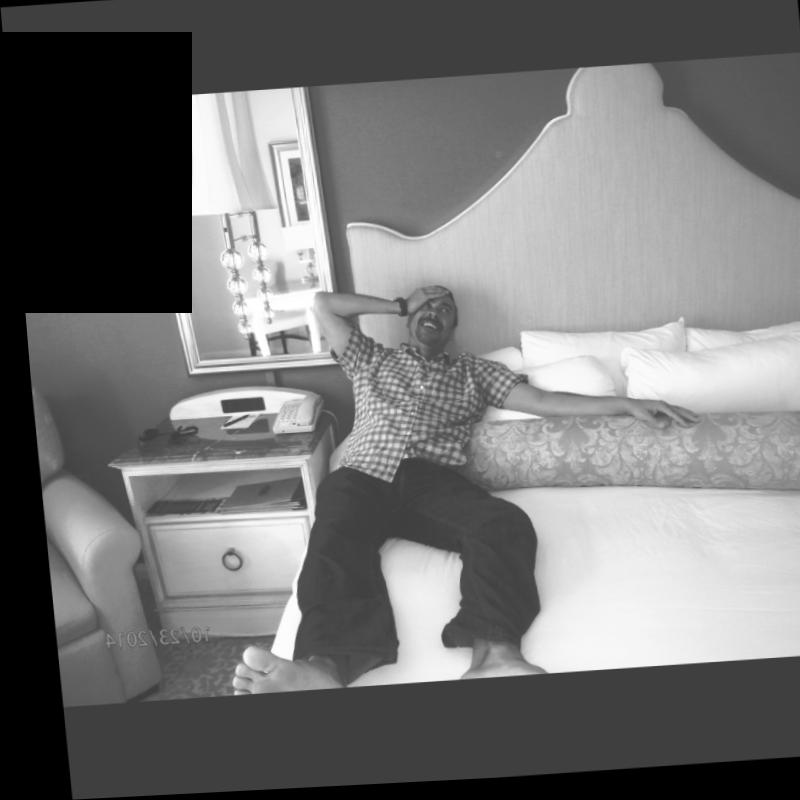pillow: (591, 319, 800, 440), (520, 324, 684, 415), (471, 359, 612, 423), (676, 323, 800, 366), (470, 352, 518, 390)
